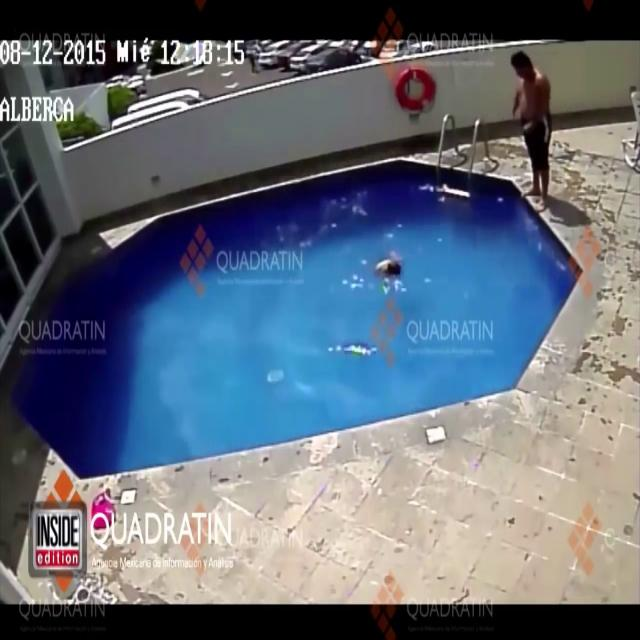adult: (511, 46, 556, 196)
child: (371, 255, 404, 281)
